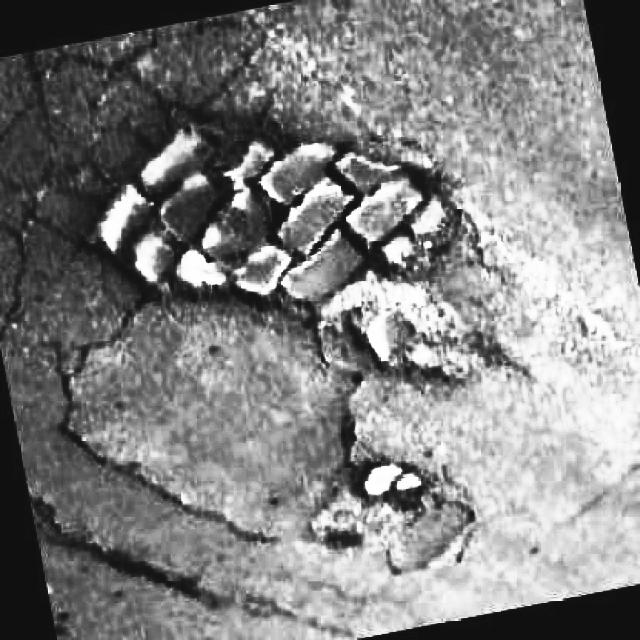pothole: (98, 102, 471, 389), (303, 448, 480, 580)
